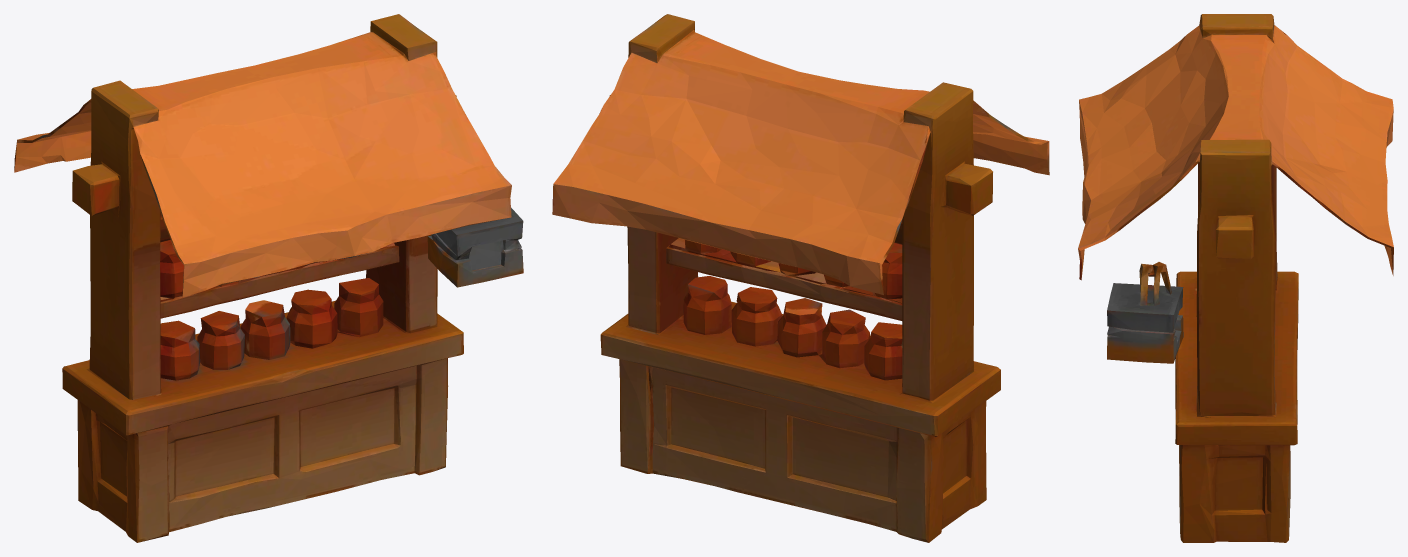
File: merchant_stall.glb
The picture shows the model from 3 angles, left to right: view 1: azimuth 30°, elevation 25°; view 2: azimuth 150°, elevation 25°; view 3: azimuth 270°, elevation 25°; orthographic projection. The views are drawn at different scales.
Size of the model in its own units: 1.89 by 1.97 by 1.45.
Materials: 1 (1 with a texture image).
